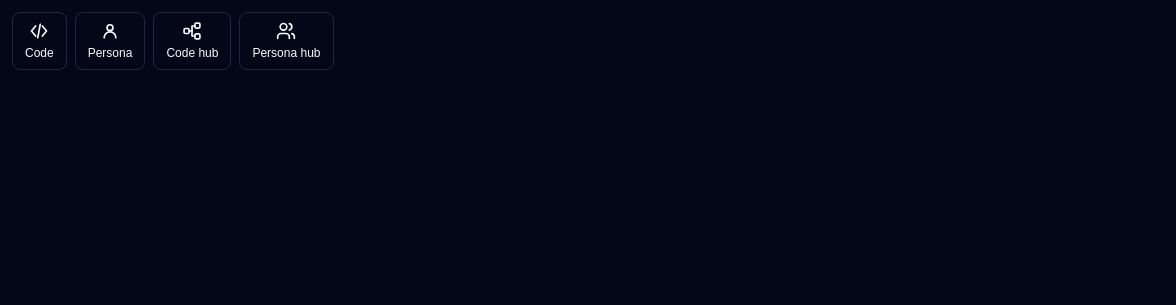
Scenario: FolderCreatorWizard — steps composed by kind › hub variants include a member picker step
This screenshot has width=1176, height=305.
Click the button "Code hub".
click(192, 41)  # box left=153, top=12, right=231, bottom=70
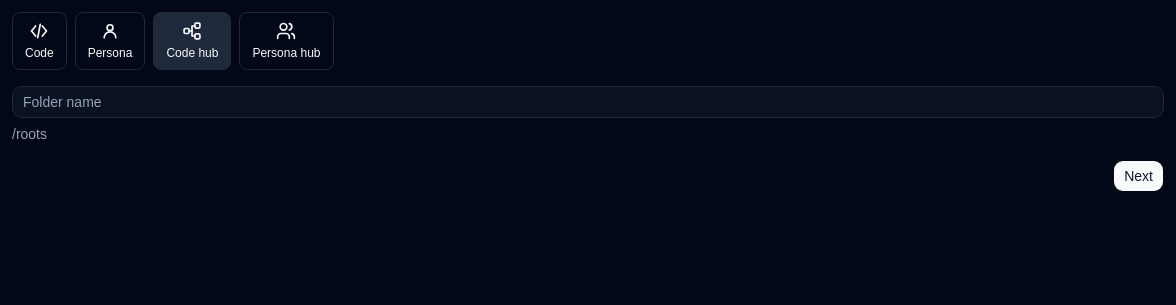
Type "beta" into the field with placeholder "Folder name".
click(588, 102); type("beta")  # box left=12, top=86, right=1164, bottom=118
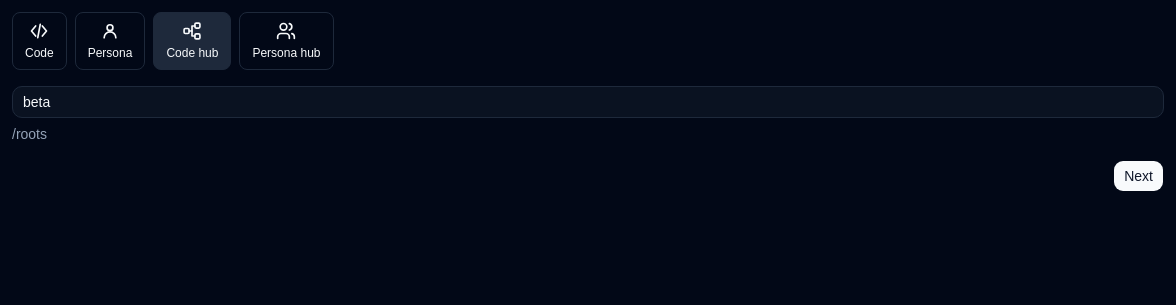
Click the button "Next".
click(1139, 176)  # box left=1113, top=160, right=1164, bottom=192
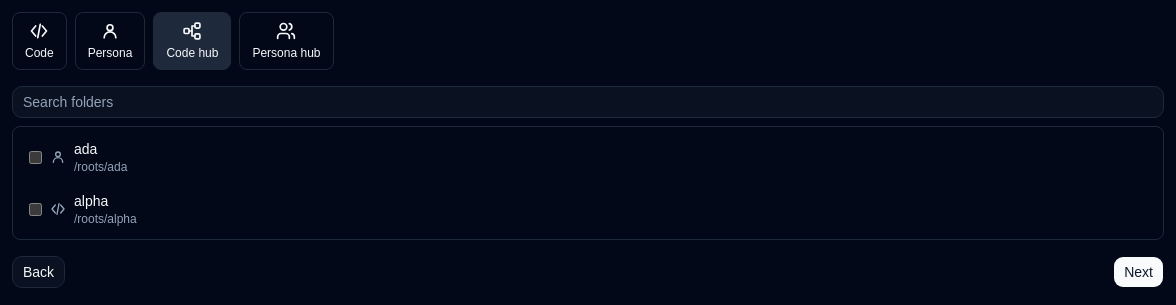
Check: the button "alpha /roots/alpha" is shown, box left=17, top=183, right=1159, bottom=235
